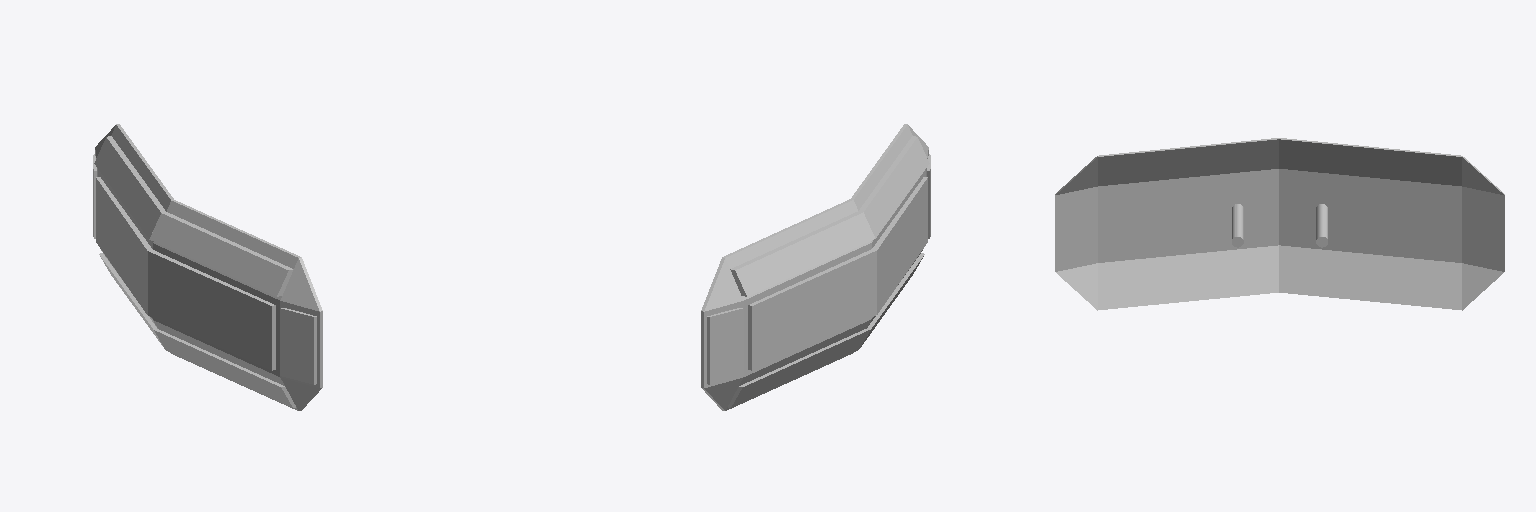
File: ShieldTwo.obj
3 views of the same model, side by side, from view 1: azimuth 30°, elevation 25°; view 2: azimuth 150°, elevation 25°; view 3: azimuth 270°, elevation 25° (orthographic).
Visible parts, largest first — view 1: Cylinder.004, Cylinder.005; view 2: Cylinder.005, Cylinder.004; view 3: Cylinder.005, Cylinder.004.
Part boxes in pixels (left/top/right/bottom): Cylinder.004: left=148, top=200, right=322, bottom=410; Cylinder.005: left=93, top=124, right=173, bottom=345; Cylinder.005: left=701, top=199, right=876, bottom=410; Cylinder.004: left=851, top=124, right=930, bottom=346; Cylinder.005: left=1279, top=138, right=1504, bottom=310; Cylinder.004: left=1055, top=138, right=1278, bottom=310.
Size of the model in its own units: 11.88 by 8 by 21.26.